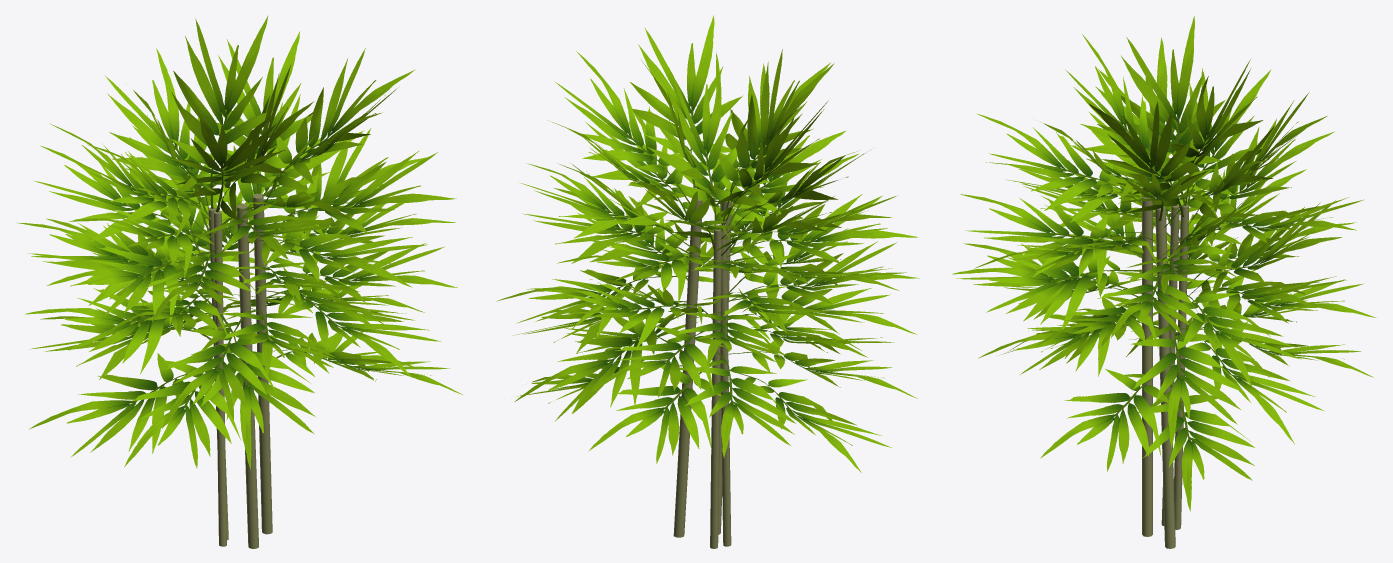
Rendered from plant_06.fbx.
3 views of the same model, side by side, from view 1: azimuth 30°, elevation 25°; view 2: azimuth 150°, elevation 25°; view 3: azimuth 270°, elevation 25° (orthographic). The views are drawn at different scales.
Parts seen in each view (by area): view 1: plant_06_base, plant_09, plant_06, plant_16, plant_37, plant_48, plant_18, plant_46, plant_47, plant_33, plant_25, plant_26 (+30 smaller); view 2: plant_06_base, plant_08, plant_17, plant_19, plant_16, plant_50, plant_42, plant_49, plant_15, plant_29, plant_48, plant_31 (+34 smaller); view 3: plant_06_base, plant_11, plant_43, plant_44, plant_45, plant_35, plant_32, plant_08, plant_41, plant_34, plant_42, plant_19 (+30 smaller).
Part boxes in pixels (bbox=[...]): plant_06_base: bbox=[208, 193, 272, 548]; plant_09: bbox=[171, 15, 278, 208]; plant_06: bbox=[105, 48, 223, 220]; plant_16: bbox=[264, 48, 415, 205]; plant_37: bbox=[162, 316, 276, 428]; plant_48: bbox=[29, 353, 186, 456]; plant_18: bbox=[273, 151, 456, 240]; plant_46: bbox=[191, 314, 315, 469]; plant_47: bbox=[124, 357, 240, 468]; plant_33: bbox=[247, 215, 427, 287]; plant_25: bbox=[47, 236, 211, 325]; plant_26: bbox=[25, 288, 211, 374]; plant_06_base: bbox=[673, 198, 731, 548]; plant_08: bbox=[647, 51, 747, 225]; plant_17: bbox=[630, 15, 743, 187]; plant_19: bbox=[718, 49, 834, 225]; plant_16: bbox=[554, 51, 690, 203]; plant_50: bbox=[588, 360, 721, 463]; plant_42: bbox=[514, 310, 686, 421]; plant_49: bbox=[684, 352, 795, 458]; plant_15: bbox=[727, 194, 918, 269]; plant_29: bbox=[591, 326, 725, 397]; plant_48: bbox=[730, 370, 891, 472]; plant_31: bbox=[521, 163, 689, 246]; plant_06_base: bbox=[1142, 196, 1189, 548]; plant_11: bbox=[1121, 16, 1225, 203]; plant_43: bbox=[1130, 323, 1243, 448]; plant_44: bbox=[1040, 369, 1169, 471]; plant_45: bbox=[1138, 384, 1254, 511]; plant_35: bbox=[952, 246, 1142, 333]; plant_32: bbox=[976, 113, 1142, 210]; plant_08: bbox=[1088, 101, 1208, 216]; plant_41: bbox=[1156, 293, 1301, 387]; plant_34: bbox=[960, 194, 1141, 277]; plant_42: bbox=[1168, 322, 1324, 443]; plant_19: bbox=[1065, 34, 1176, 205].
Size of the model in its own units: 2.23 by 2.73 by 2.21.
